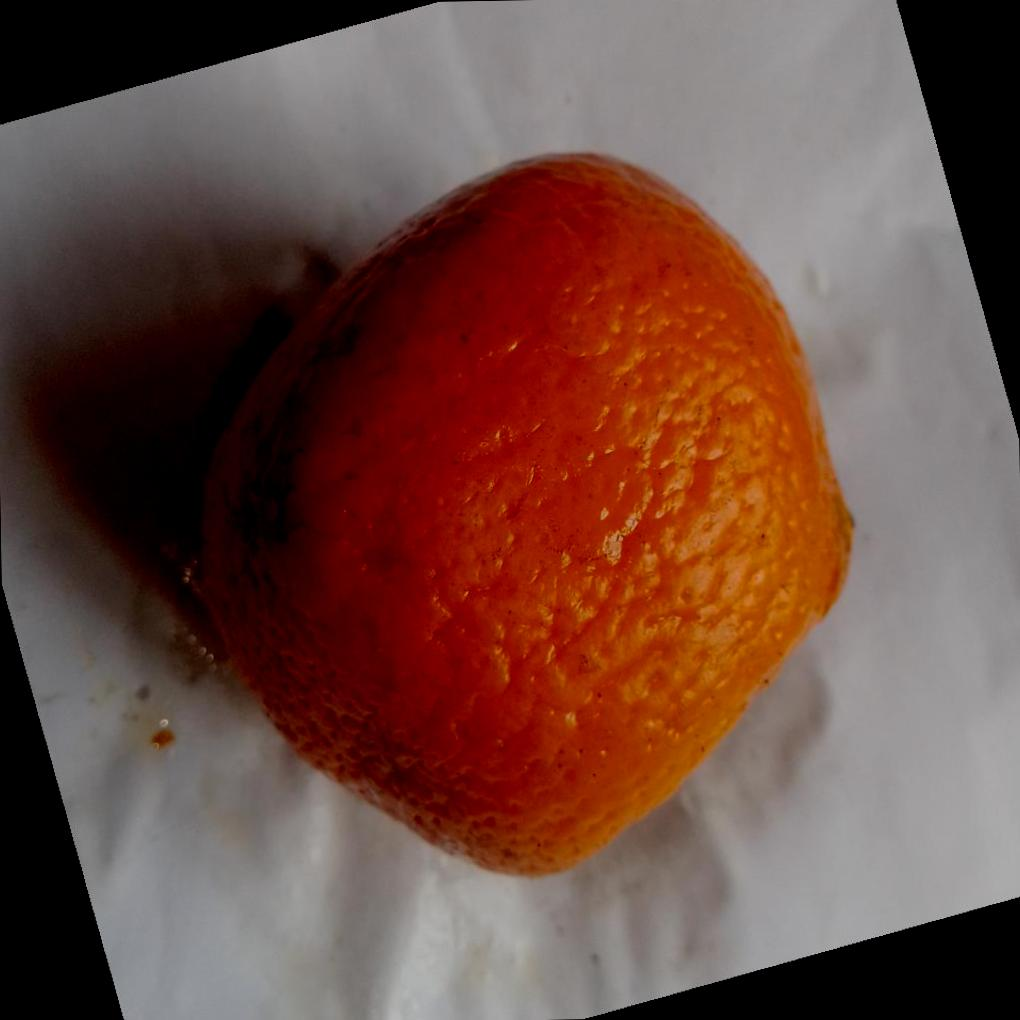FreshOrange: (190, 153, 855, 883)
